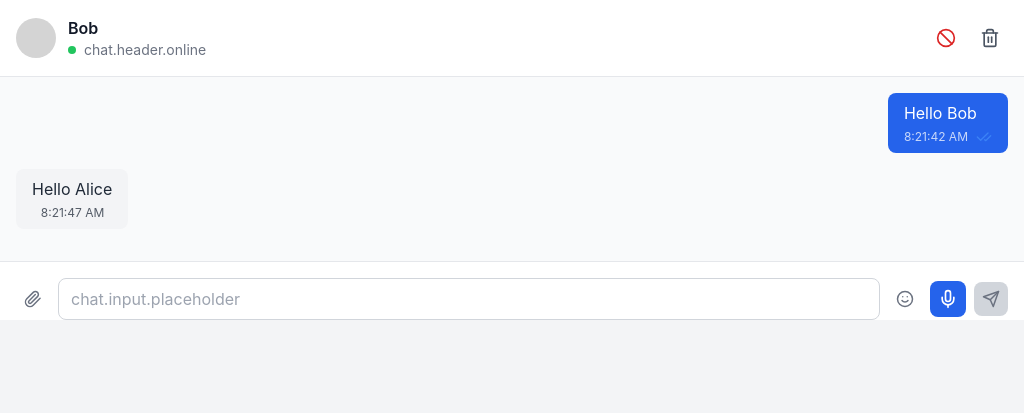
Scenario: ChatWindow › devrait envoyer un message texte quand l'utilisateur clique sur Envoyer
Expected: the text "Hello Bob" is shown, [904, 103, 977, 123]
Type "Test message" into the field with placeholder "chat.input.placeholder".
click(469, 299); type("Test message")  # box [58, 278, 880, 320]
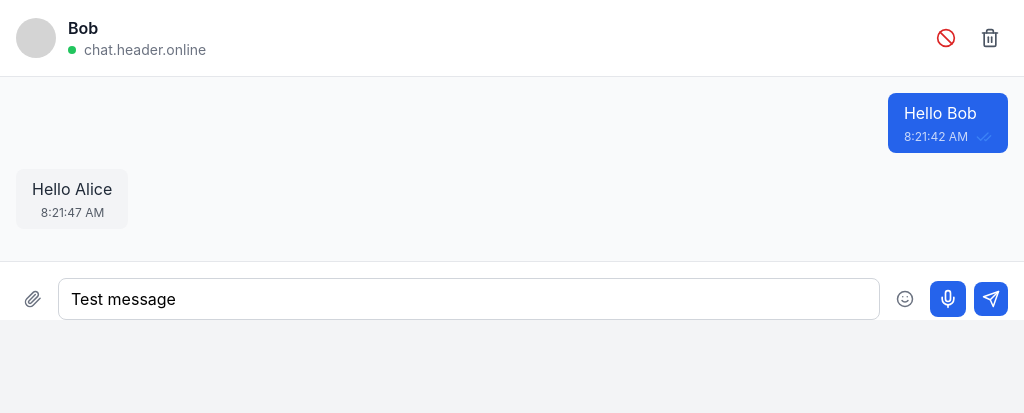
Click the button named "chat.send_aria.send_message".
click(991, 299)  # box [974, 282, 1008, 316]
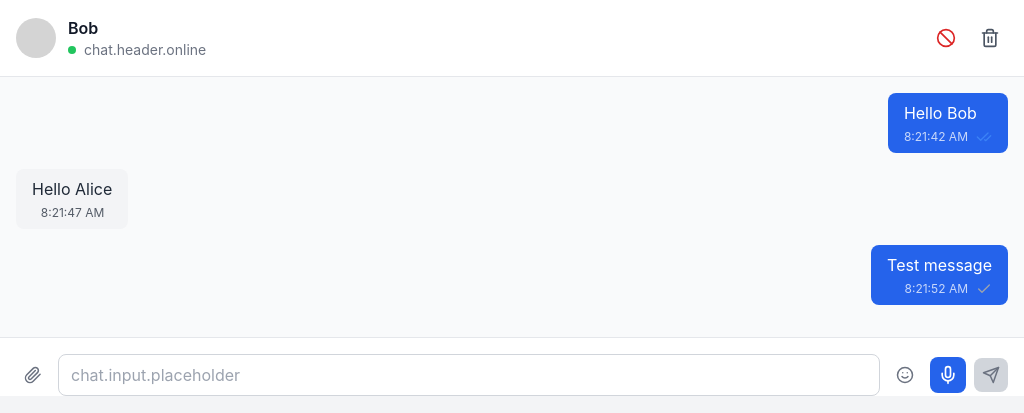
Expected: the text "Test message" is shown, [887, 255, 992, 275]
